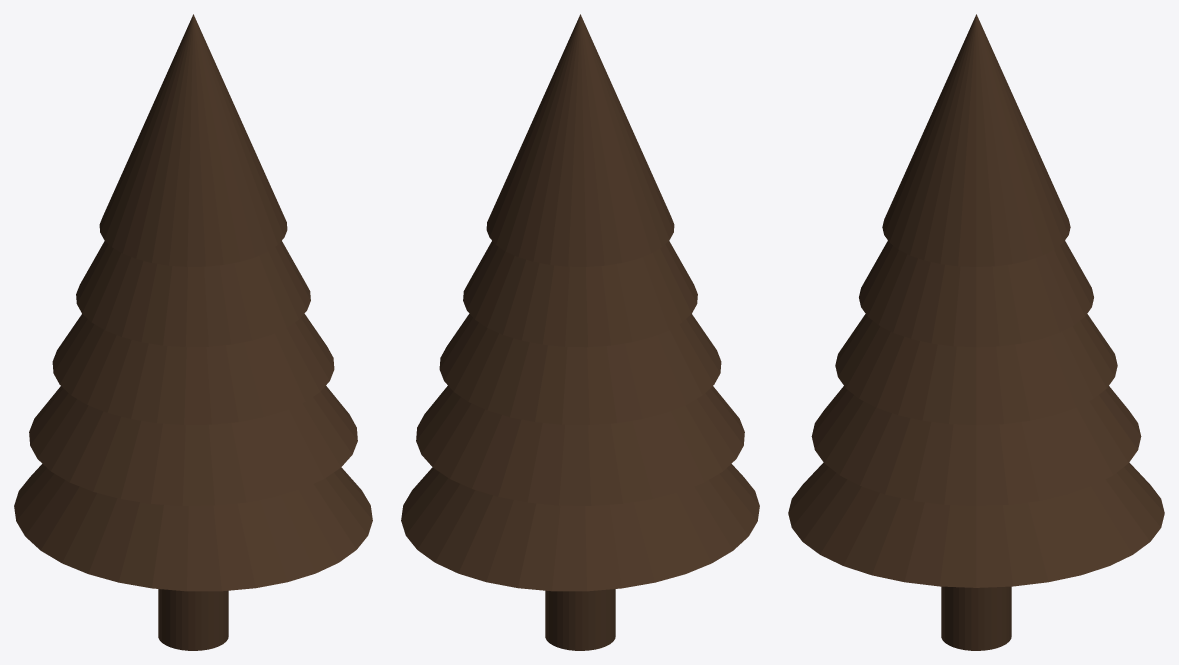
Rendered from tannenbaum.glb.
The picture shows the model from 3 angles, left to right: view 1: azimuth 30°, elevation 25°; view 2: azimuth 150°, elevation 25°; view 3: azimuth 270°, elevation 25°; orthographic projection.
Visible parts, largest first — view 1: Cylinder; view 2: Cylinder; view 3: Cylinder.
Part boxes in pixels (x1,y1,x2,y2): Cylinder: (14,14,372,650); Cylinder: (401,14,759,650); Cylinder: (788,14,1164,650).
Size of the model in its own units: 1.5 by 2.92 by 1.6.
